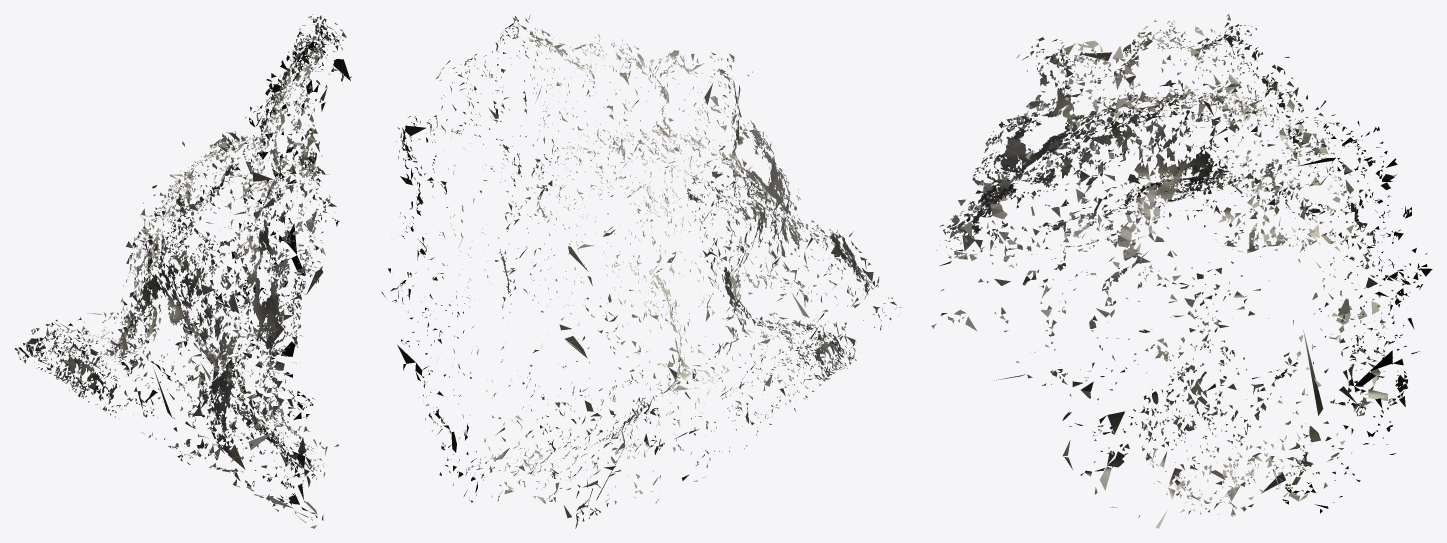
3 renders of one model, left to right at view 1: azimuth 30°, elevation 25°; view 2: azimuth 150°, elevation 25°; view 3: azimuth 270°, elevation 25°, orthographic. The views are drawn at different scales.
Parts seen in each view (by area): view 1: test2; view 2: test2; view 3: test2.
Part boxes in pixels (x1,y1,x2,y2): test2: (15, 14, 351, 528); test2: (381, 14, 900, 528); test2: (931, 14, 1432, 528).
Bounding box in the file's own units: 1.15 × 1.5 × 1.27.
1 material, 1 textured.
